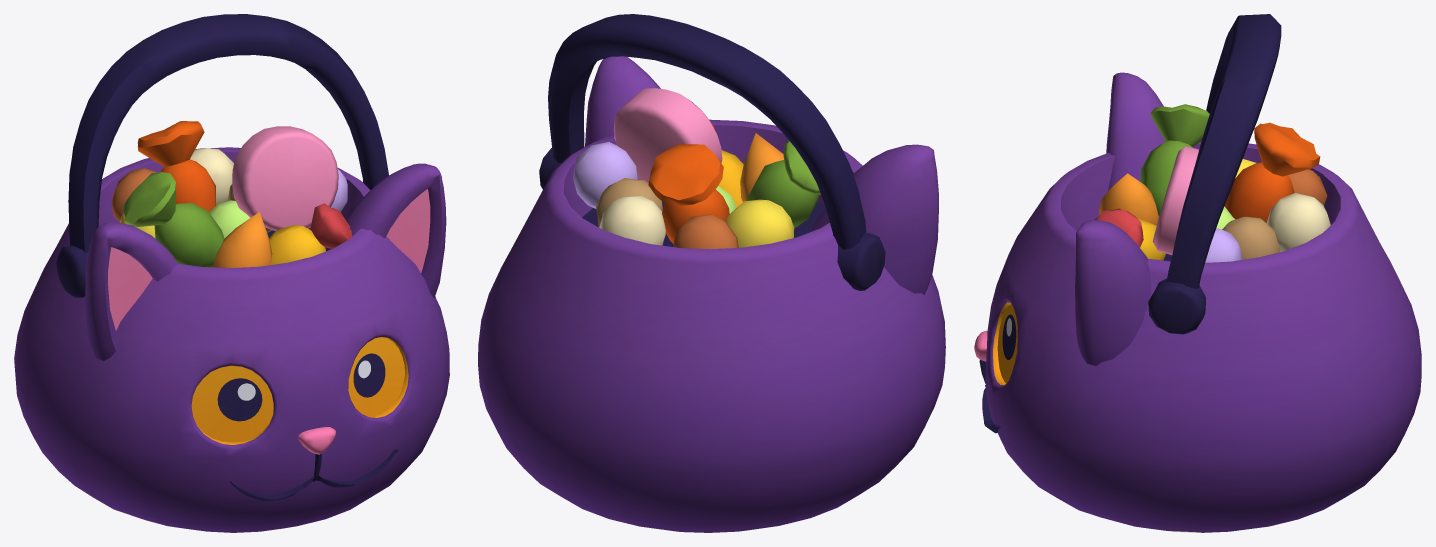
The model's file is treat_03.glb.
The picture shows the model from 3 angles, left to right: view 1: azimuth 30°, elevation 25°; view 2: azimuth 150°, elevation 25°; view 3: azimuth 270°, elevation 25°; orthographic projection. The views are drawn at different scales.
Visible parts, largest first — view 1: WBA_CandyBucket_Set_03; view 2: WBA_CandyBucket_Set_03; view 3: WBA_CandyBucket_Set_03.
Part boxes in pixels (x1=…): WBA_CandyBucket_Set_03: x1=14, y1=14, x2=449, y2=532; WBA_CandyBucket_Set_03: x1=478, y1=14, x2=945, y2=532; WBA_CandyBucket_Set_03: x1=974, y1=14, x2=1421, y2=532.
Size of the model in its own units: 0.2617 by 0.2902 by 0.2639.
Materials: 1 (1 with a texture image).
